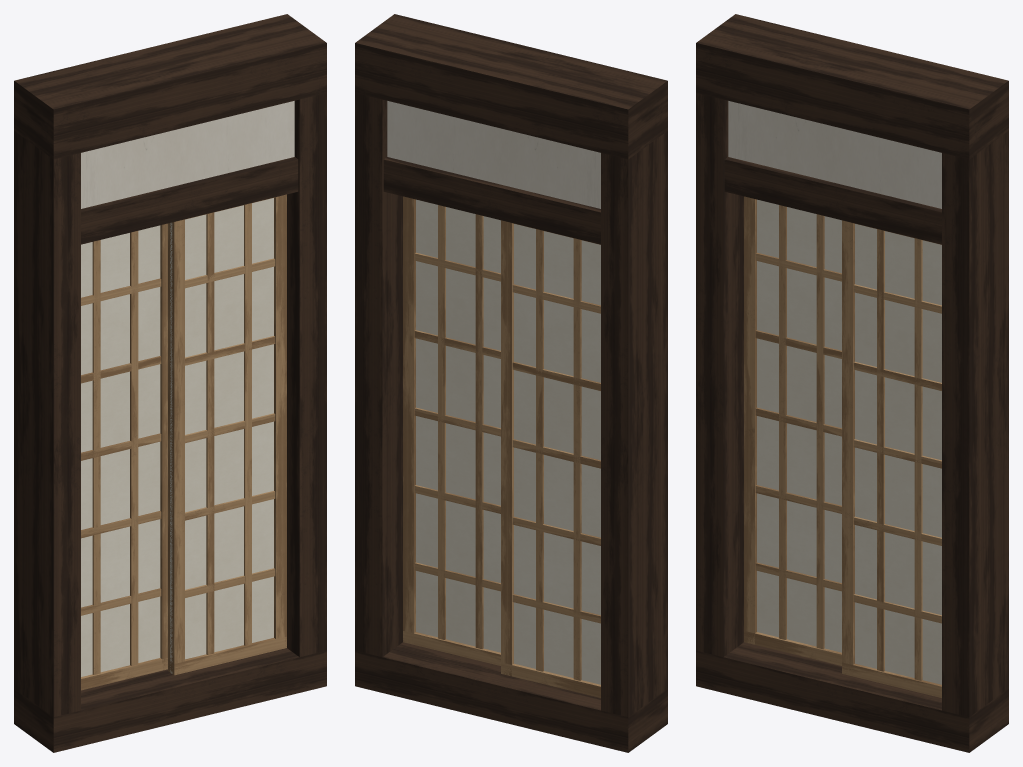
File: HO_Wall_Door_Shoji_4.fbx
The picture shows the model from 3 angles, left to right: view 1: azimuth 30°, elevation 25°; view 2: azimuth 150°, elevation 25°; view 3: azimuth 330°, elevation 25°; orthographic projection.
Visible parts, largest first — view 1: HO_Wall_Door_Shoji_4__Timber_Dark, HO_Wall_Door_Shoji_4_Door2__Shoji_Paper, HO_Wall_Door_Shoji_4_Door1__Shoji_Paper, HO_Wall_Door_Shoji_4_Door2__Timber_Light, HO_Wall_Door_Shoji_4_Door1__Timber_Light, HO_Wall_Door_Shoji_4__Plaster_White; view 2: HO_Wall_Door_Shoji_4__Timber_Dark, HO_Wall_Door_Shoji_4_Door1__Shoji_Paper, HO_Wall_Door_Shoji_4_Door2__Shoji_Paper, HO_Wall_Door_Shoji_4_Door1__Timber_Light, HO_Wall_Door_Shoji_4_Door2__Timber_Light, HO_Wall_Door_Shoji_4__Plaster_White; view 3: HO_Wall_Door_Shoji_4__Timber_Dark, HO_Wall_Door_Shoji_4_Door2__Shoji_Paper, HO_Wall_Door_Shoji_4_Door1__Shoji_Paper, HO_Wall_Door_Shoji_4_Door2__Timber_Light, HO_Wall_Door_Shoji_4_Door1__Timber_Light, HO_Wall_Door_Shoji_4__Plaster_White.
Boxes of the visible parts, x1,y1,x2,y2 form: HO_Wall_Door_Shoji_4__Timber_Dark: (14,14,326,752); HO_Wall_Door_Shoji_4_Door2__Shoji_Paper: (170,198,273,673); HO_Wall_Door_Shoji_4_Door1__Shoji_Paper: (81,225,160,676); HO_Wall_Door_Shoji_4_Door2__Timber_Light: (168,194,286,675); HO_Wall_Door_Shoji_4_Door1__Timber_Light: (81,223,167,690); HO_Wall_Door_Shoji_4__Plaster_White: (81,101,294,208); HO_Wall_Door_Shoji_4__Timber_Dark: (355,14,667,752); HO_Wall_Door_Shoji_4_Door1__Shoji_Paper: (514,224,600,684); HO_Wall_Door_Shoji_4_Door2__Shoji_Paper: (416,199,500,652); HO_Wall_Door_Shoji_4_Door1__Timber_Light: (501,220,600,697); HO_Wall_Door_Shoji_4_Door2__Timber_Light: (403,196,500,665); HO_Wall_Door_Shoji_4__Plaster_White: (387,101,600,208); HO_Wall_Door_Shoji_4__Timber_Dark: (696,14,1008,752); HO_Wall_Door_Shoji_4_Door2__Shoji_Paper: (855,224,941,684); HO_Wall_Door_Shoji_4_Door1__Shoji_Paper: (757,199,841,652); HO_Wall_Door_Shoji_4_Door2__Timber_Light: (842,220,941,697); HO_Wall_Door_Shoji_4_Door1__Timber_Light: (744,196,841,665); HO_Wall_Door_Shoji_4__Plaster_White: (728,101,941,208).
Size of the model in its own units: 4 by 9 by 1.
